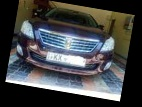car: (14, 1, 120, 81)
